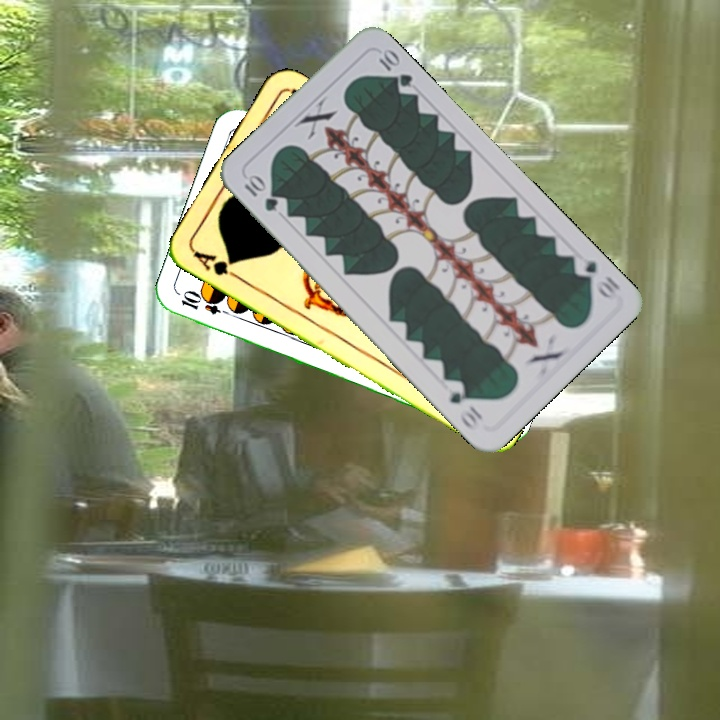E10: (177, 289, 235, 319)
G10: (569, 256, 624, 304), (240, 171, 281, 215)
GA: (190, 247, 245, 284)
